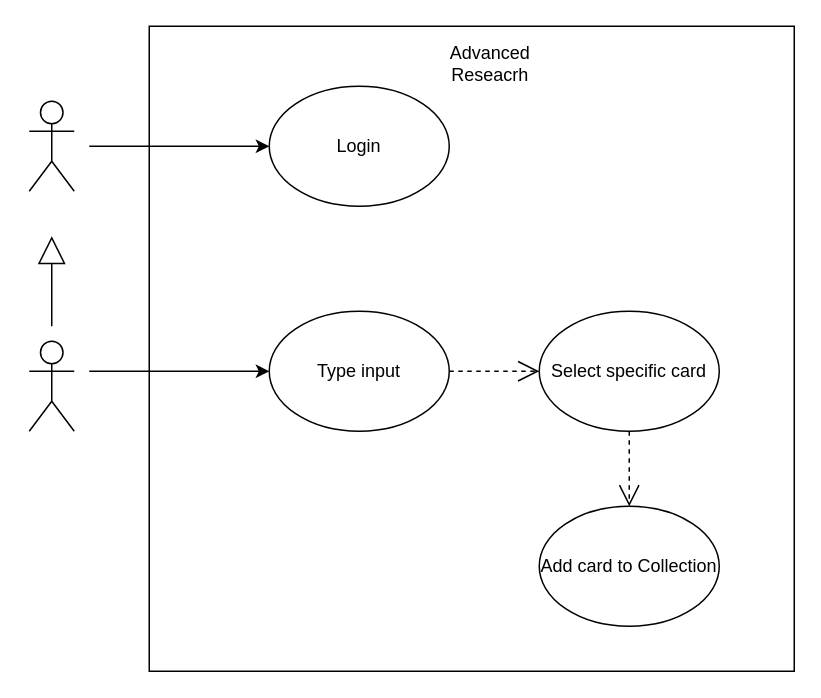
Some shapes in this 821 by 698 pixel diagram are drawn without their labels. Each missing label, with the box of its shape:
Guest: (28, 100, 74, 191)
User: (28, 340, 74, 431)
